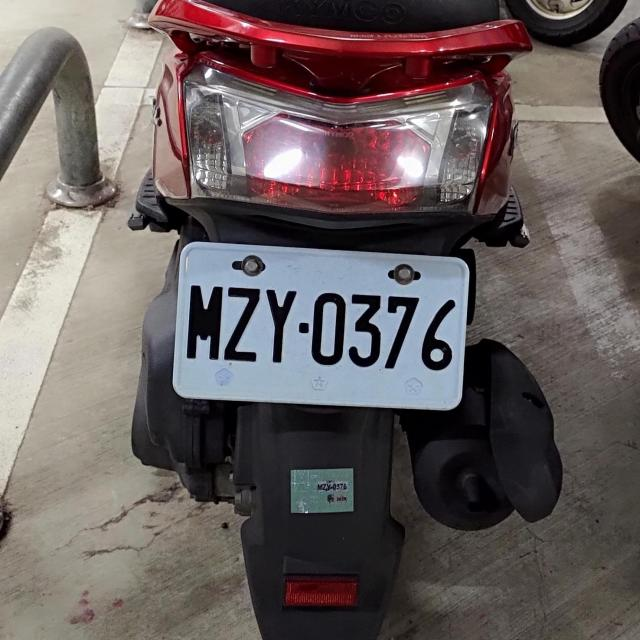W: (172, 239, 469, 408)
